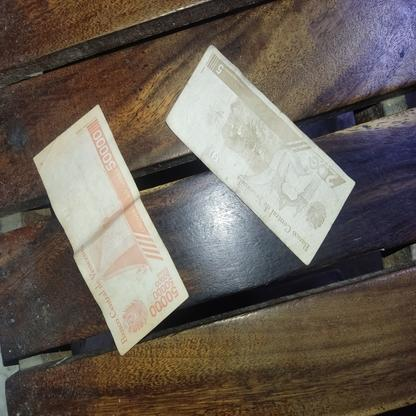five-back-vef: (164, 44, 355, 265)
